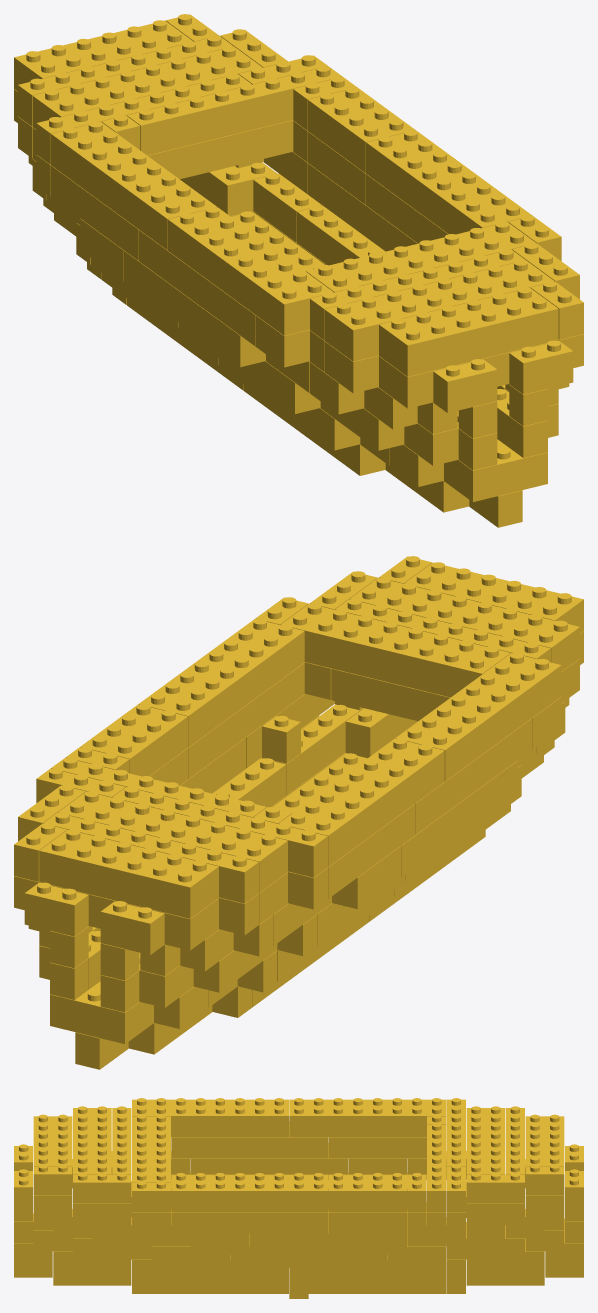
3 renders of one model, top to bottom at view 1: azimuth 30°, elevation 25°; view 2: azimuth 150°, elevation 25°; view 3: azimuth 270°, elevation 25°, orthographic. The views are drawn at different scales.
Visible parts, largest first — view 1: vessel_L1_P2_G; view 2: vessel_L1_P2_G; view 3: vessel_L1_P2_G.
Part boxes in pixels (x1=…): vessel_L1_P2_G: x1=14, y1=14, x2=583, y2=527; vessel_L1_P2_G: x1=14, y1=556, x2=583, y2=1069; vessel_L1_P2_G: x1=14, y1=1098, x2=583, y2=1298.
Size of the model in its own units: 10.97 by 8.59 by 28.97.
